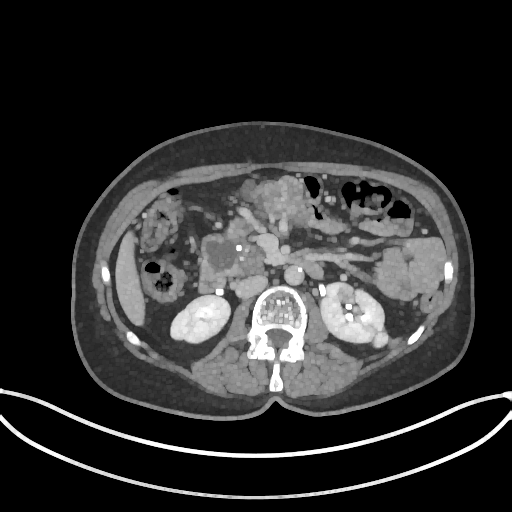Lesion: (337, 280, 359, 305)
